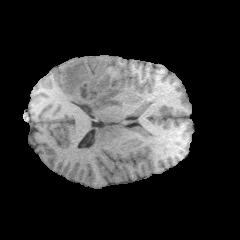glioma: (62, 59, 123, 110)
